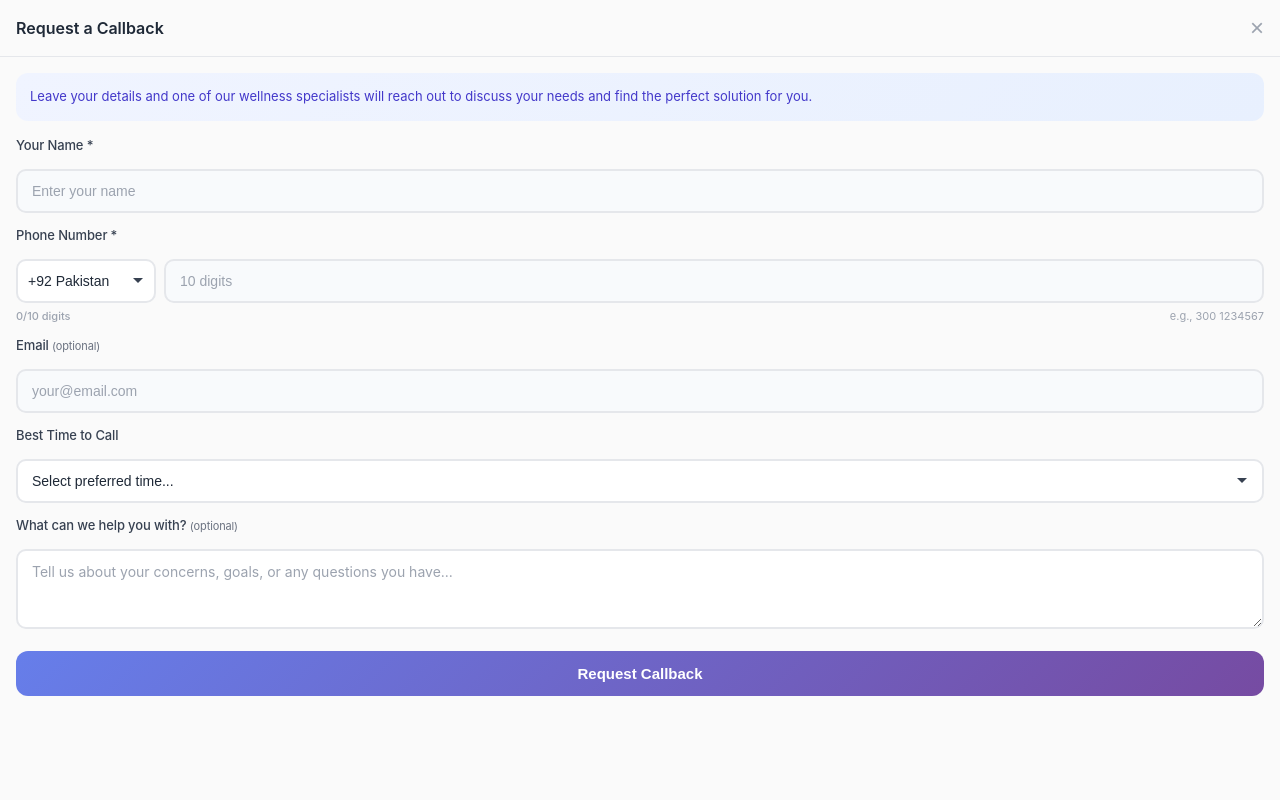
CallbackForm Submission › should not submit with empty fields
This screenshot has width=1280, height=800.
Click the button "Request Callback".
click(640, 673)  # box [16,650,1264,696]
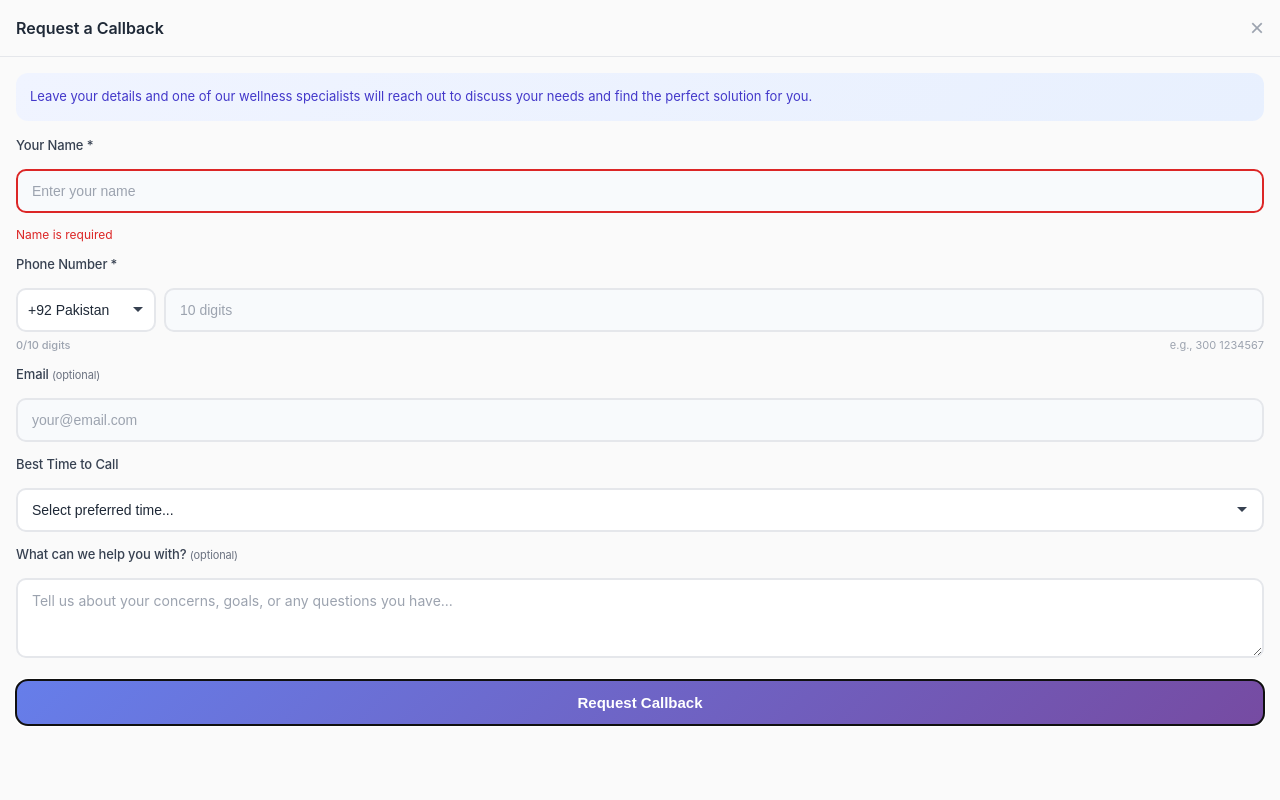
Expected: the text "Name is required" is shown, [16,226,113,242]
